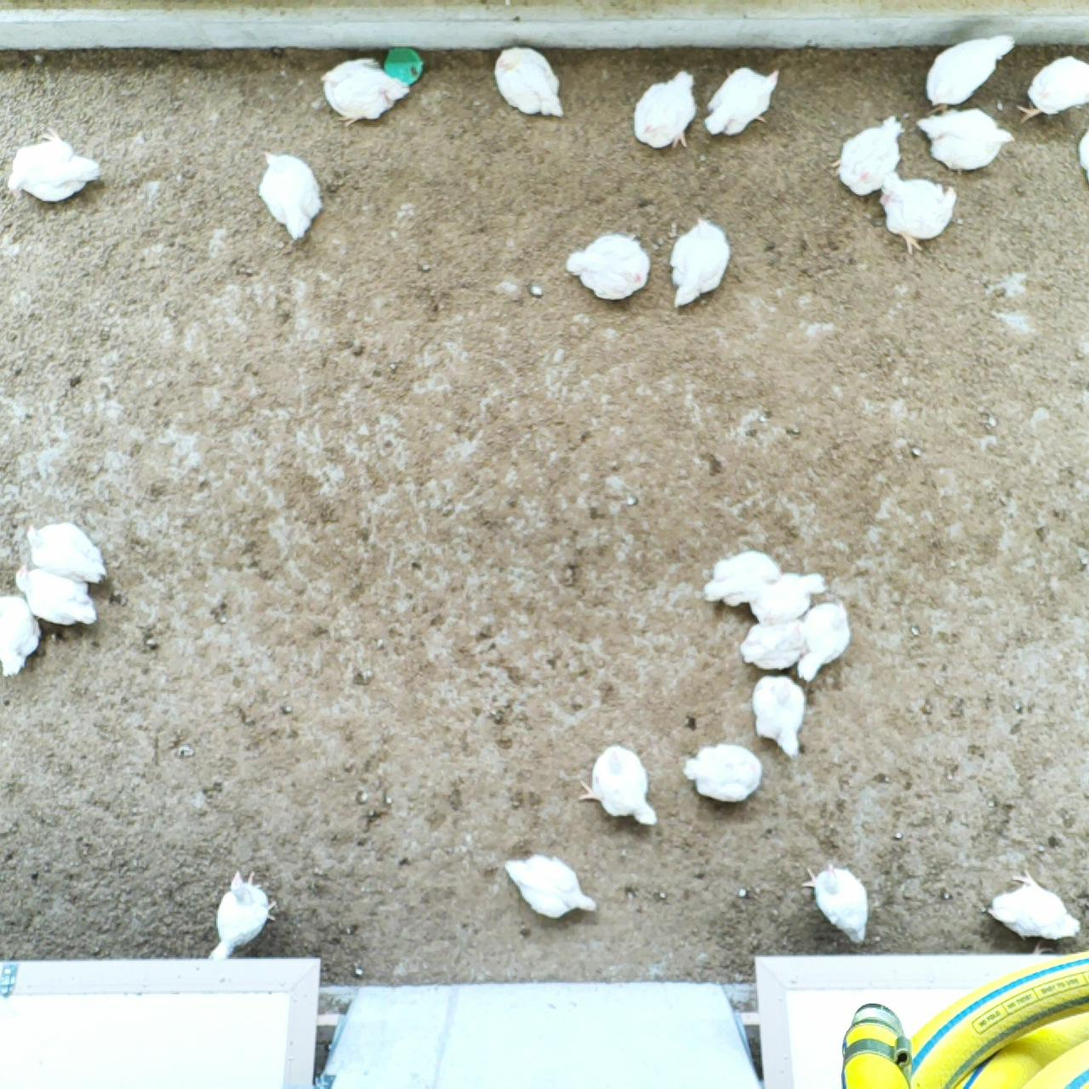chicken: (920, 31, 1018, 116), (980, 865, 1085, 944), (6, 124, 104, 205), (915, 104, 1017, 178), (318, 53, 411, 131), (578, 743, 662, 828), (876, 169, 958, 256), (502, 853, 599, 925), (828, 113, 906, 200), (208, 868, 280, 961), (256, 146, 325, 242), (798, 860, 873, 948), (564, 229, 652, 303), (700, 61, 783, 138), (489, 44, 569, 122), (665, 215, 731, 309), (630, 67, 699, 155), (13, 562, 101, 630), (1012, 53, 1089, 128), (23, 521, 110, 586), (680, 741, 764, 808), (703, 547, 782, 610), (747, 570, 829, 629), (750, 673, 806, 759), (795, 599, 852, 681), (738, 615, 810, 671), (0, 594, 44, 683), (1074, 128, 1089, 182)
